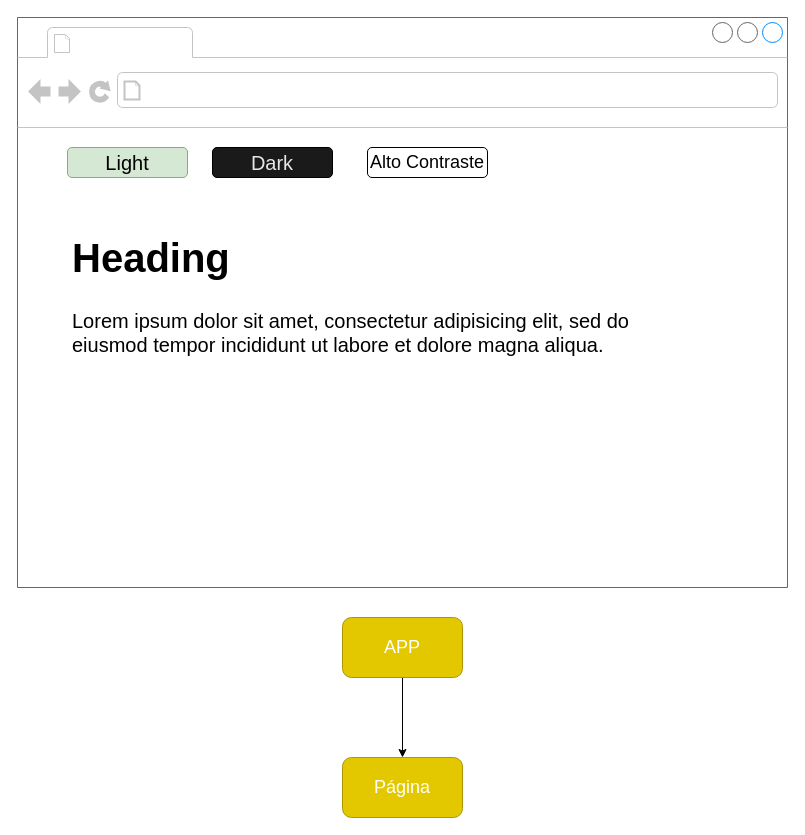
This 805x835 diagram has some shape labels left out. Here are the shapes that lost their labels. From the top down, the centre of each, then its label:
the point at 132,42: Page 1
the point at 272,90: https://www.draw.io
